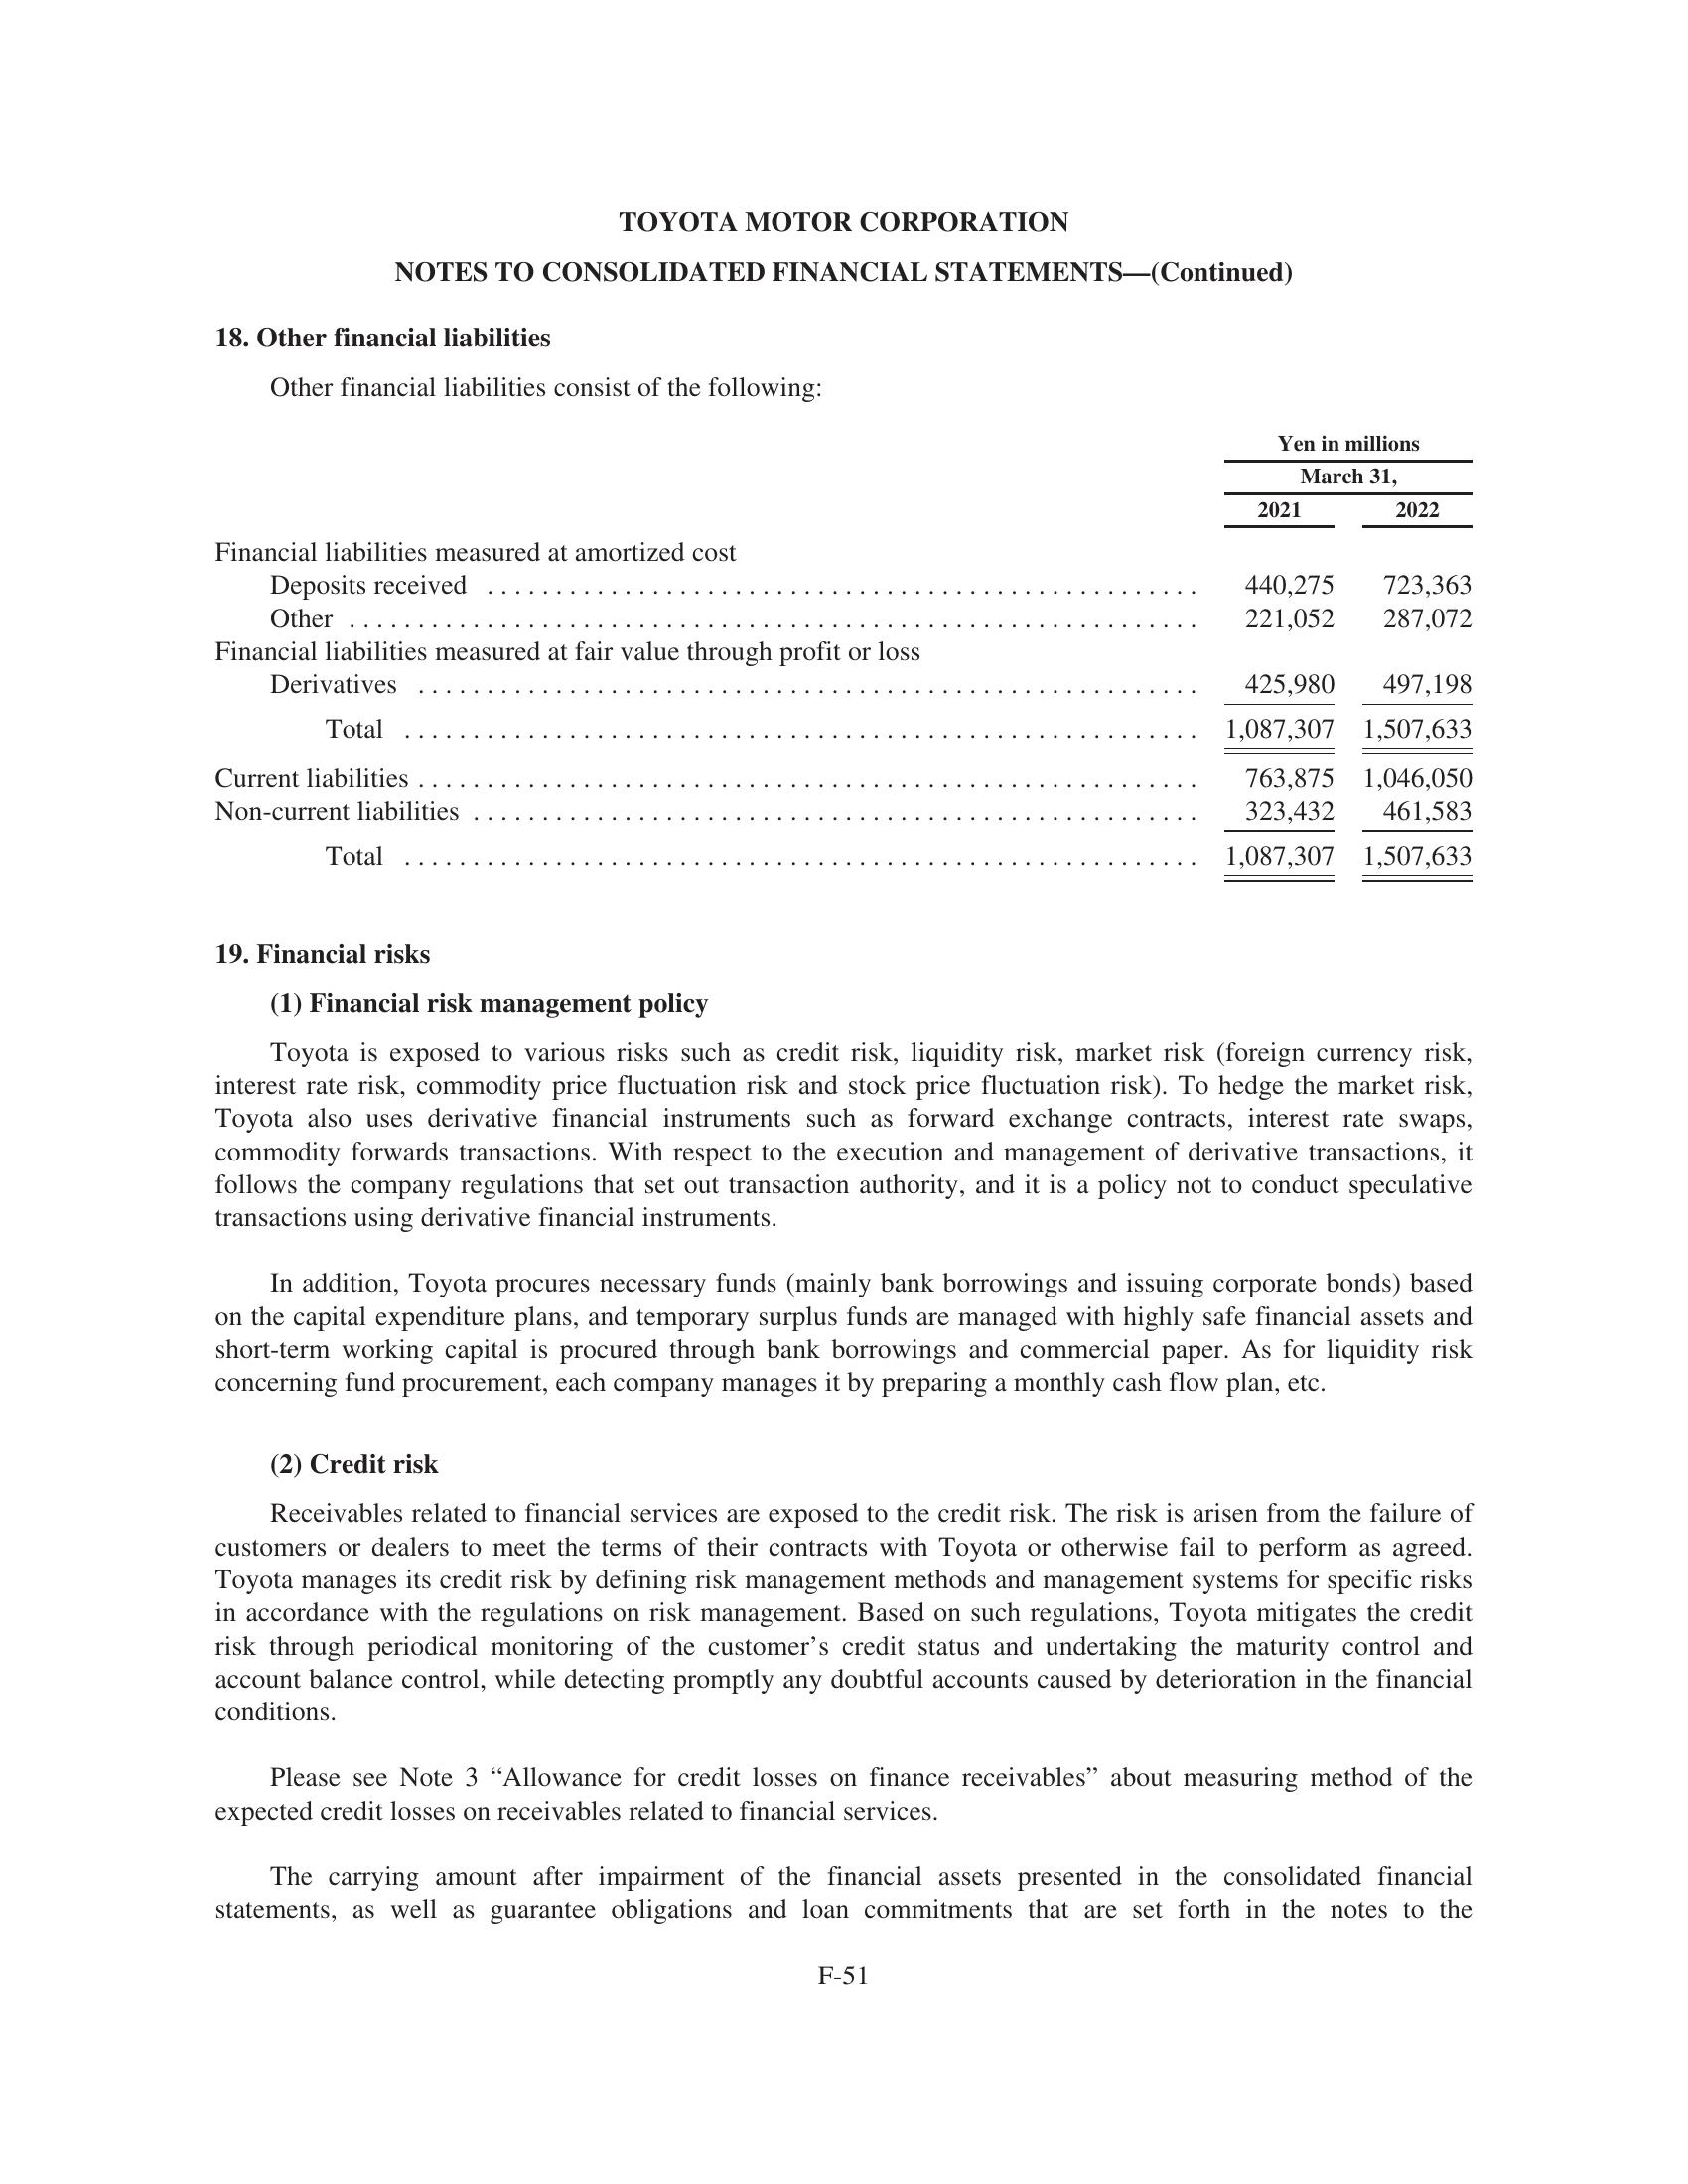Footer: (0, 1946, 1688, 2184)
Header: (0, 0, 1688, 171)
Table: (137, 422, 1495, 915)
